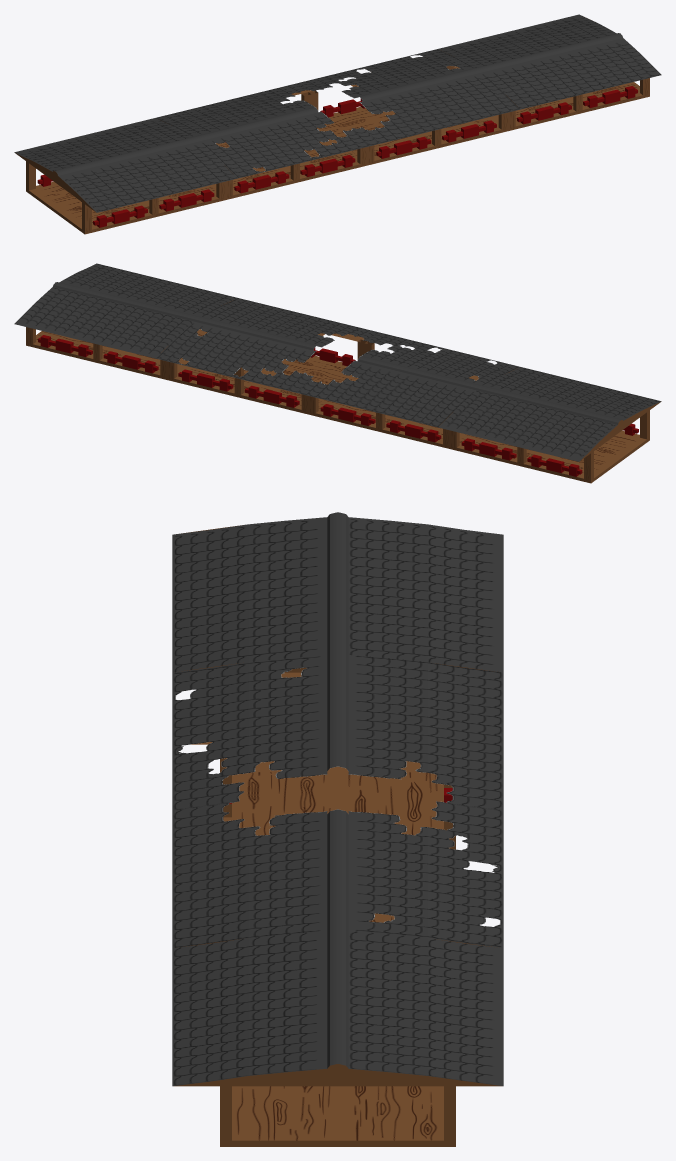
Rendered from long_bridge 1.fbx.
The picture shows the model from 3 angles, top to bottom: view 1: azimuth 30°, elevation 25°; view 2: azimuth 150°, elevation 25°; view 3: azimuth 270°, elevation 25°; orthographic projection. The views are drawn at different scales.
Visible parts, largest first — view 1: broken_longbridge, pCube4, pCube3; view 2: broken_longbridge, pCube4, pCube3; view 3: broken_longbridge, pCube3, pCube4.
Part boxes in pixels (left/top/right/bottom): broken_longbridge: left=156, top=49, right=520, bottom=199; pCube4: left=14, top=118, right=237, bottom=234; pCube3: left=438, top=14, right=661, bottom=130; broken_longbridge: left=155, top=298, right=519, bottom=448; pCube4: left=438, top=367, right=661, bottom=483; pCube3: left=14, top=263, right=237, bottom=379; broken_longbridge: left=172, top=650, right=503, bottom=948; pCube3: left=172, top=926, right=503, bottom=1146; pCube4: left=172, top=512, right=503, bottom=672.
Size of the model in its own units: 1211 by 85.03 by 307.
